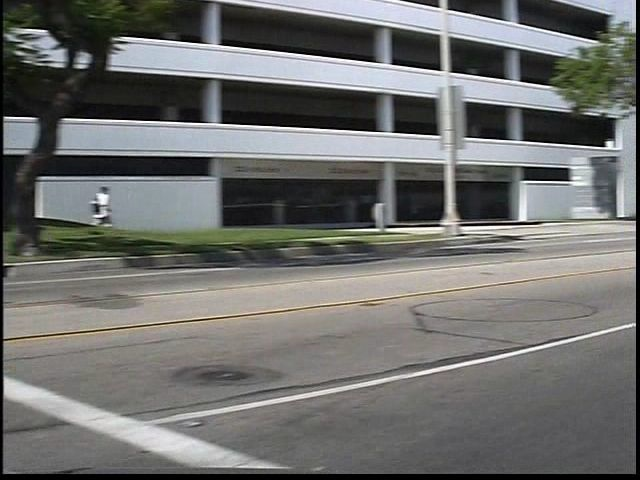person: (111, 178, 137, 247)
